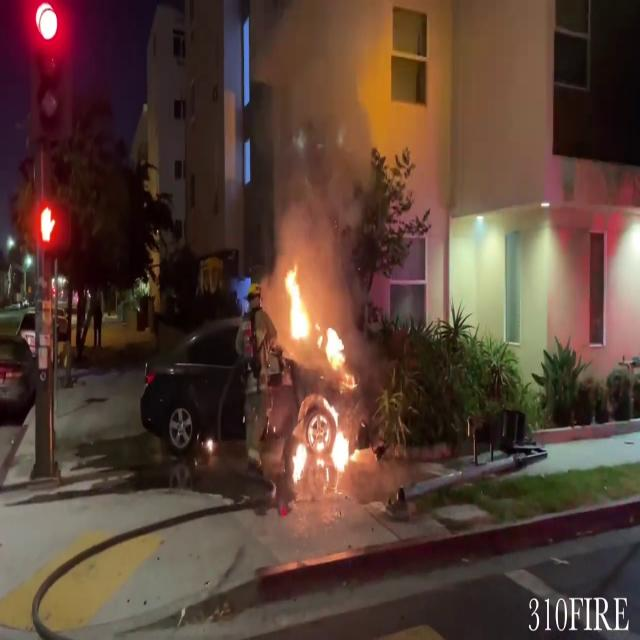Fire: (277, 256, 363, 484)
Smoke: (254, 0, 389, 269)
